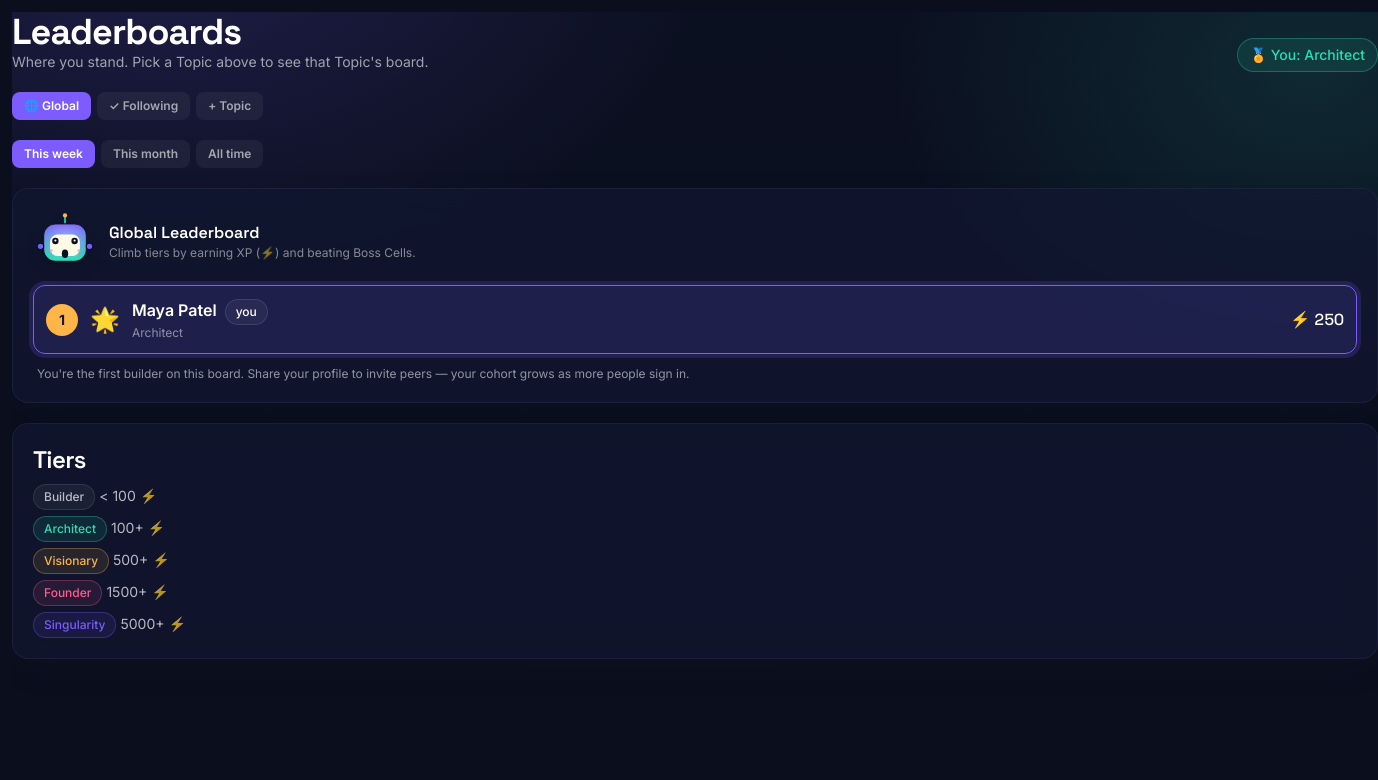
Test: Leaderboards (Boards) view › Following tab hides the player's own row + shows empty-state copy when no follows
Click the button "✓ Following" at (144, 106), box [97,92,190,120]
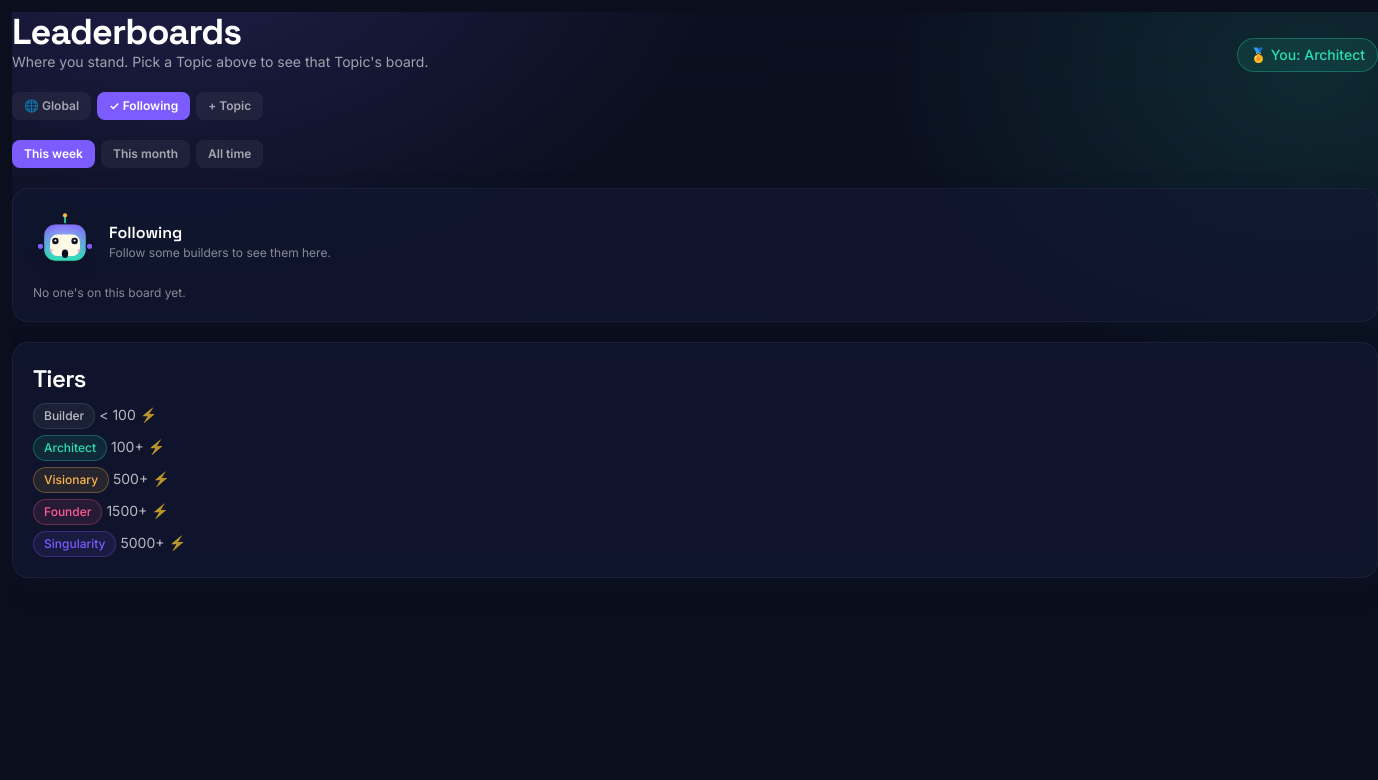
Check: the text "Follow some builders to see them here." is shown, box [109,245,331,261]
